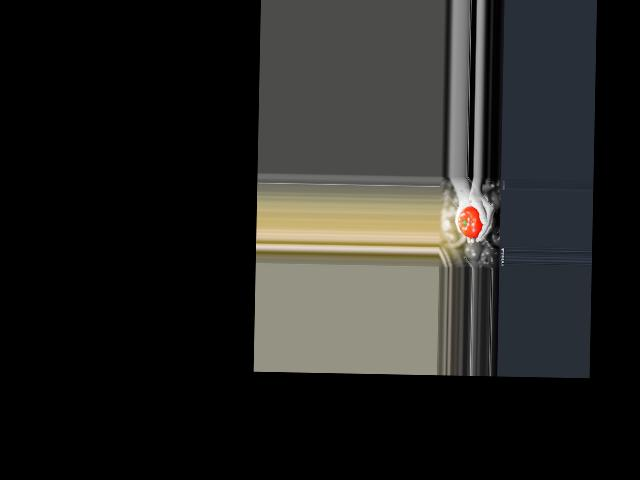tomato: (458, 205, 483, 237)
